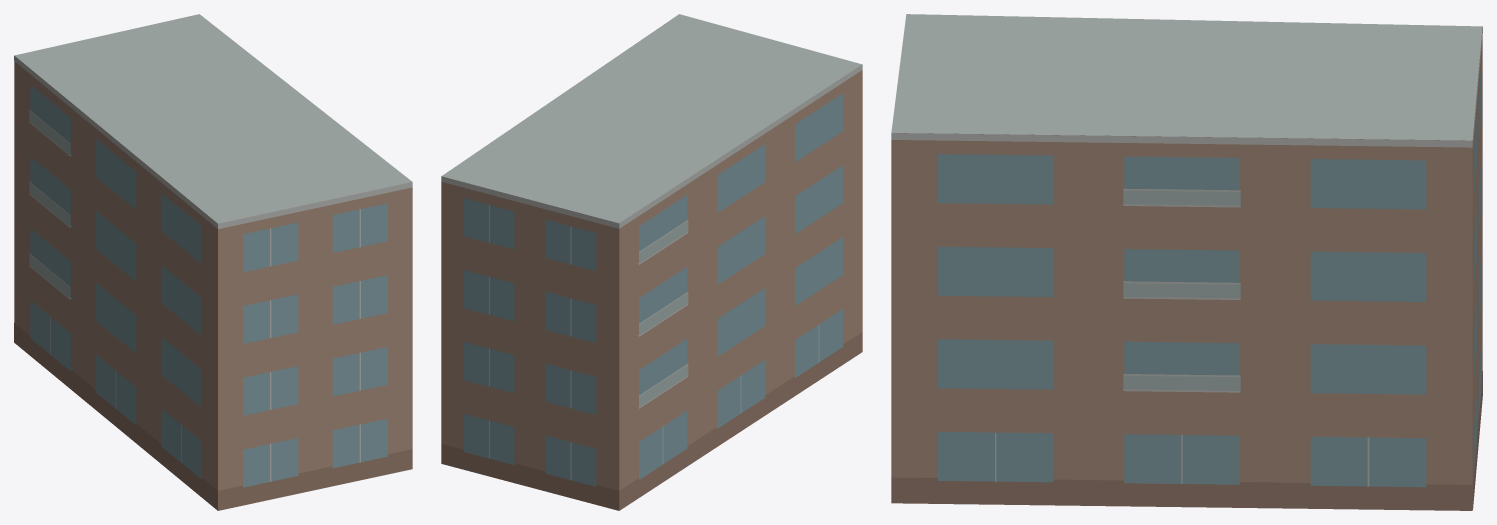
File: survey-upis-32659752.glb
The picture shows the model from 3 angles, left to right: view 1: azimuth 30°, elevation 25°; view 2: azimuth 150°, elevation 25°; view 3: azimuth 270°, elevation 25°; orthographic projection. The views are drawn at different scales.
Visible parts, largest first — view 1: survey-upis-32659752.tmp; view 2: survey-upis-32659752.tmp; view 3: survey-upis-32659752.tmp.
Part boxes in pixels (x1=…): survey-upis-32659752.tmp: x1=14, y1=14, x2=412, y2=510; survey-upis-32659752.tmp: x1=441, y1=14, x2=862, y2=510; survey-upis-32659752.tmp: x1=891, y1=14, x2=1482, y2=510.
Size of the model in its own units: 9.46 by 12.9 by 18.68.
